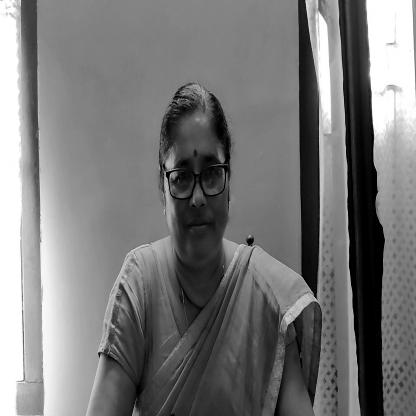Normal: (158, 81, 235, 275)
